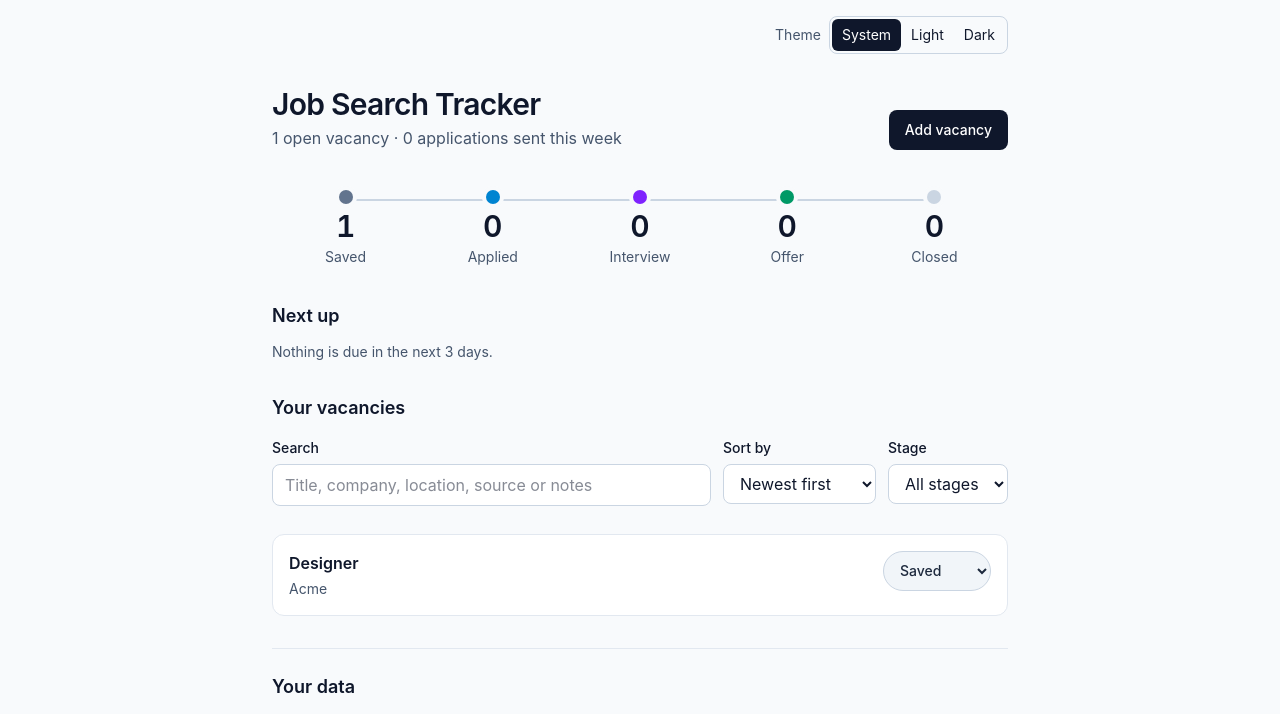
Test: JobsPage › closes the dialog without saving when you cancel
Click the button "Designer". click: click(324, 562)
box: x1=289 y1=550 x2=359 y2=574
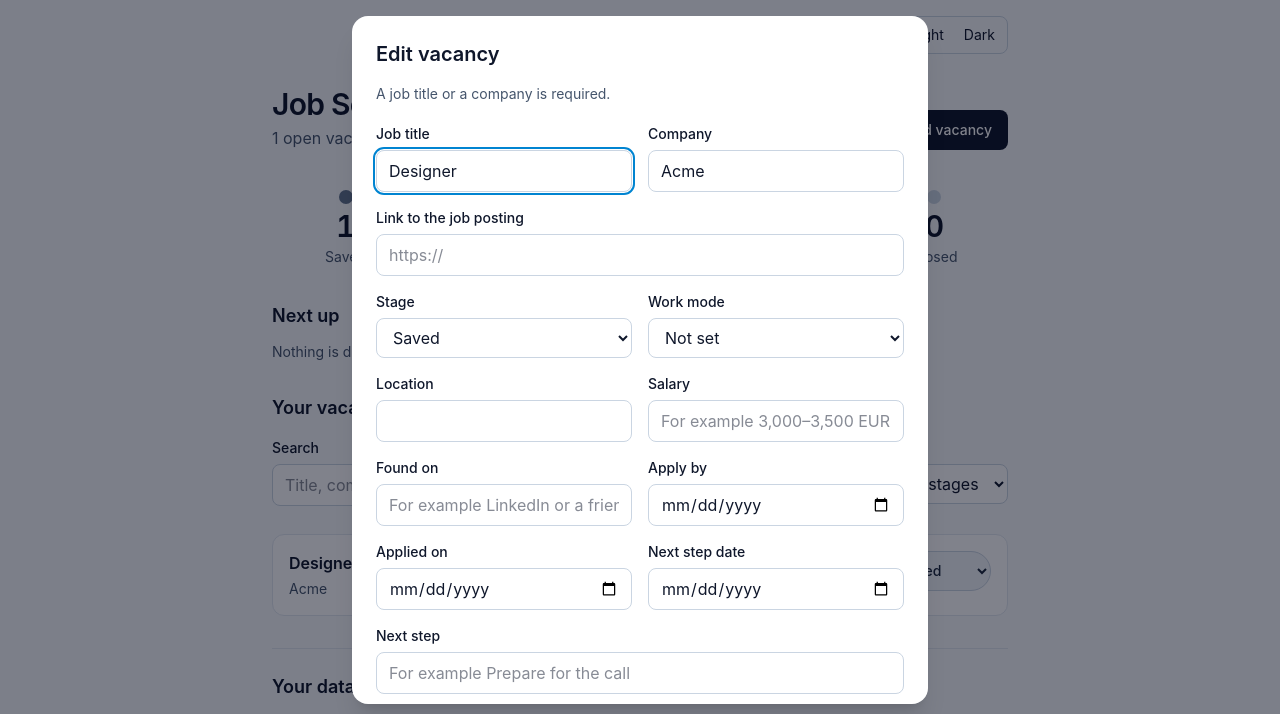
Type " (draft)" into the field labelled "Job title". click: (504, 171)
box: x1=376 y1=150 x2=632 y2=192
(page scrolled)
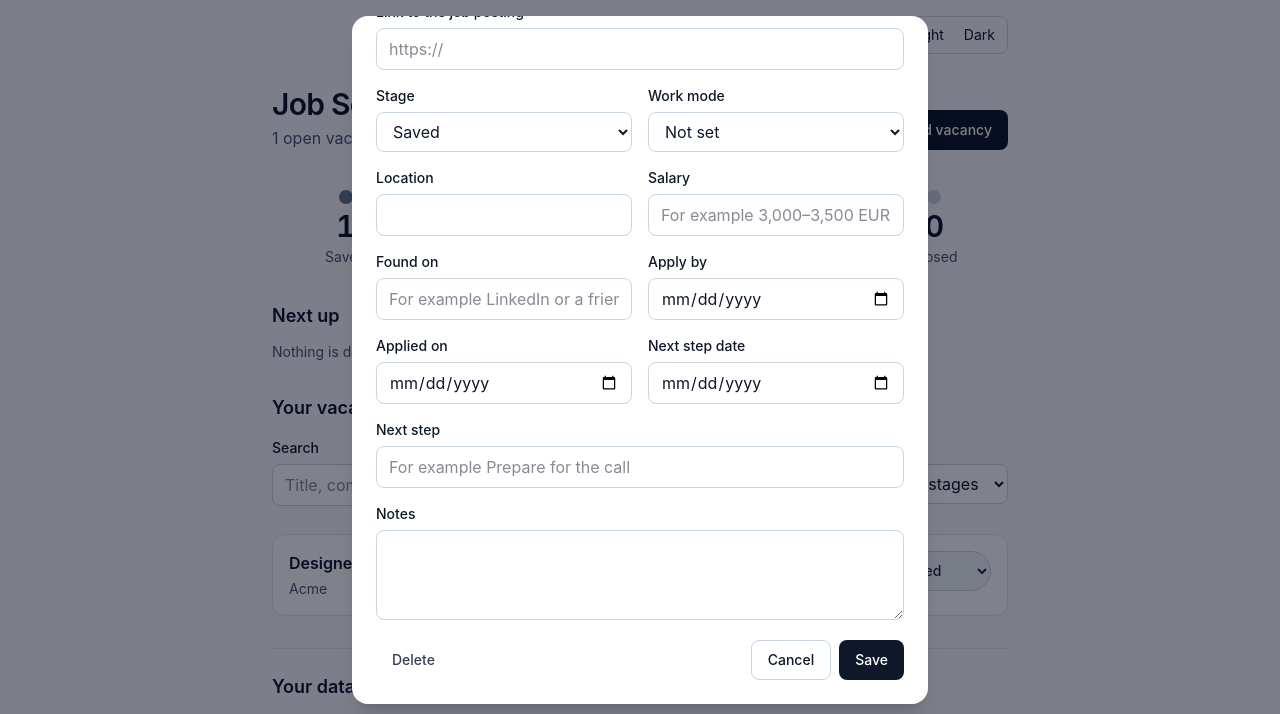
Click the button "Cancel". click: click(791, 660)
box: x1=751 y1=640 x2=831 y2=680
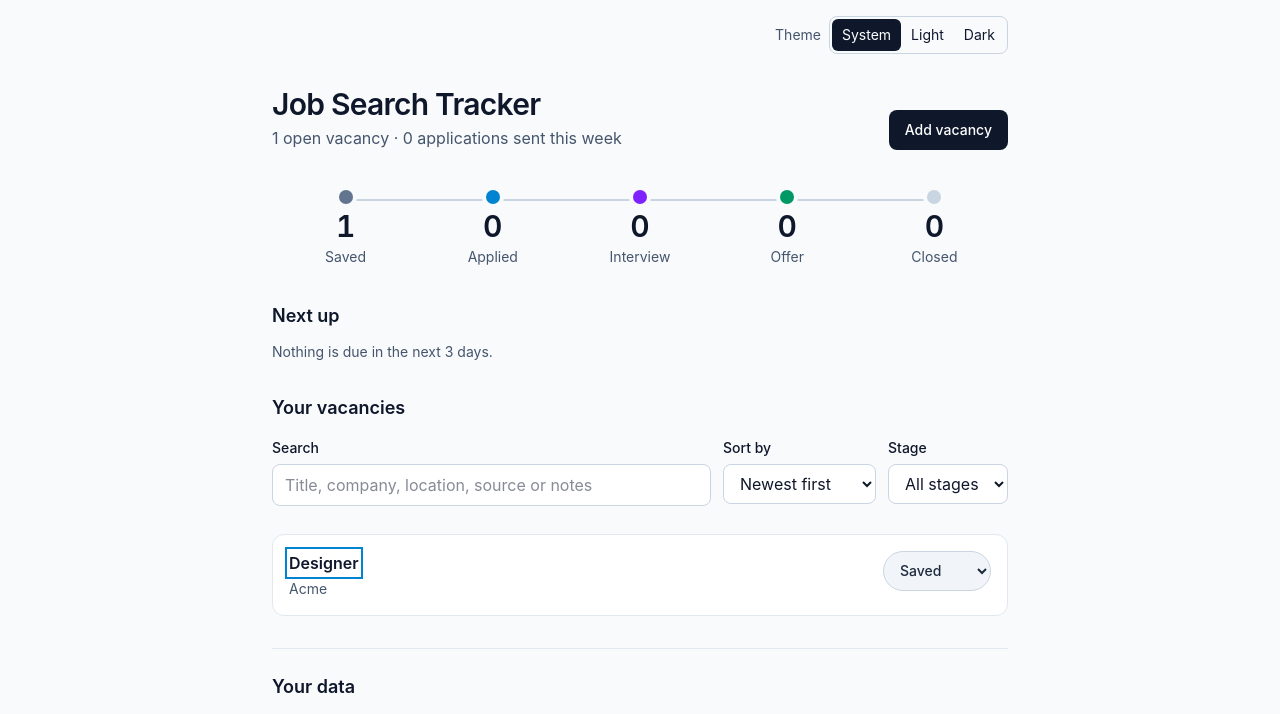
Expected: the button "Designer" is shown, x1=289 y1=550 x2=359 y2=574
Now the dialog is gone
